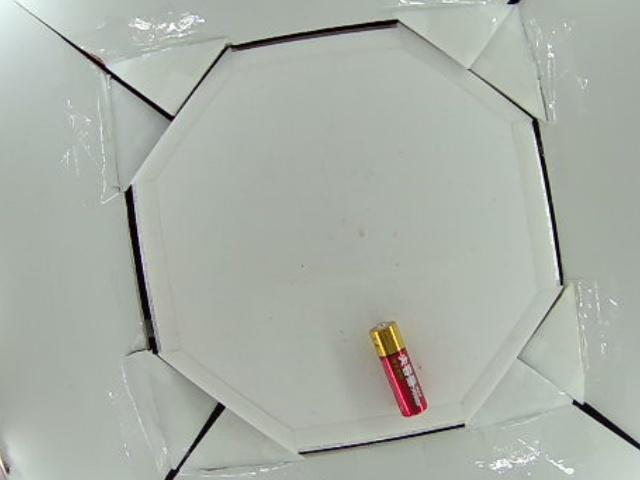Battery: (371, 322, 430, 420)
